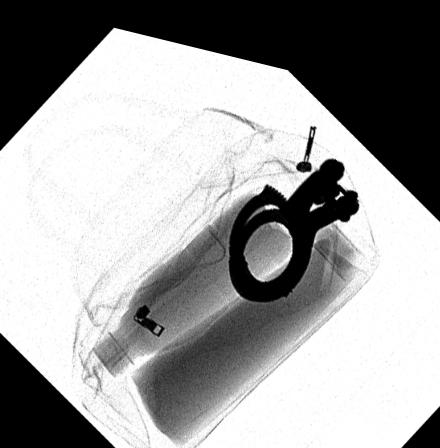HandCuffs: (228, 140, 360, 289)
